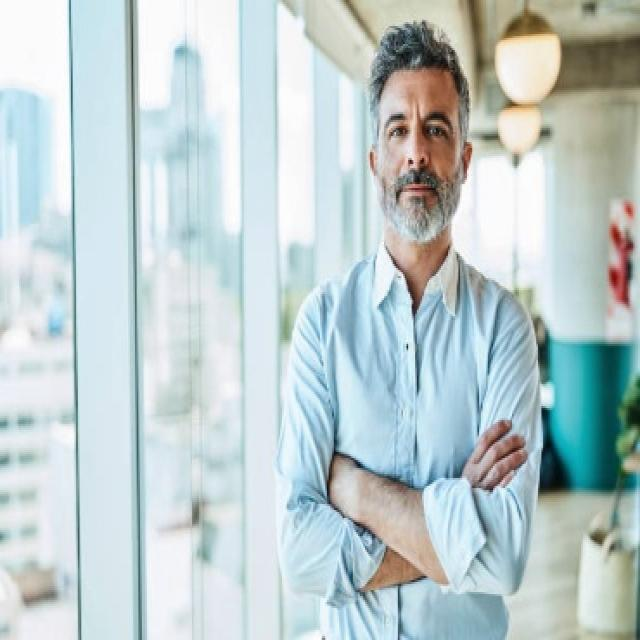adult: (299, 22, 536, 638)
